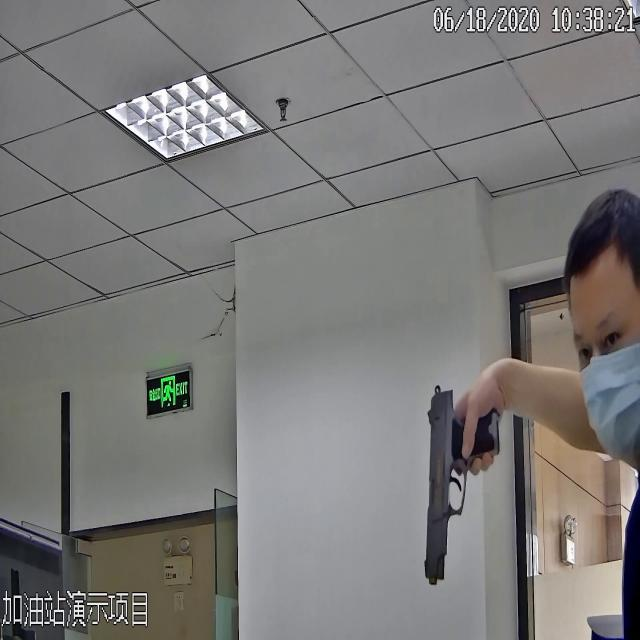gun-knife-thesis - v11 Yolov5 augmented: (413, 377, 509, 585)
